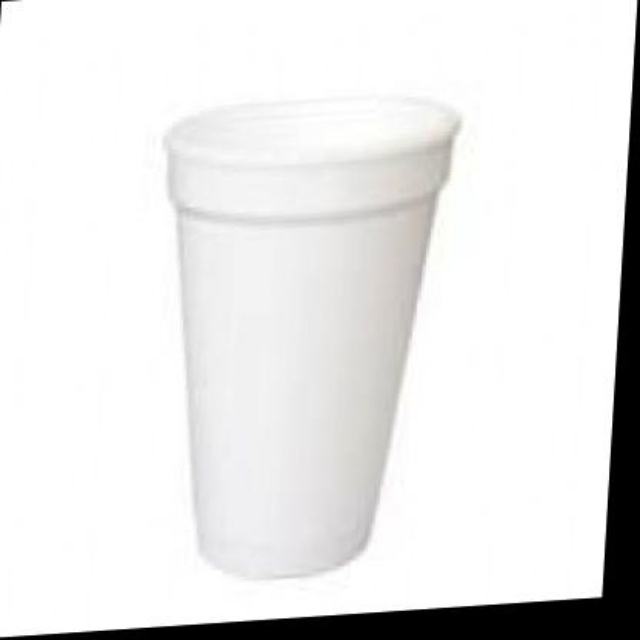trash: (166, 98, 458, 577)
